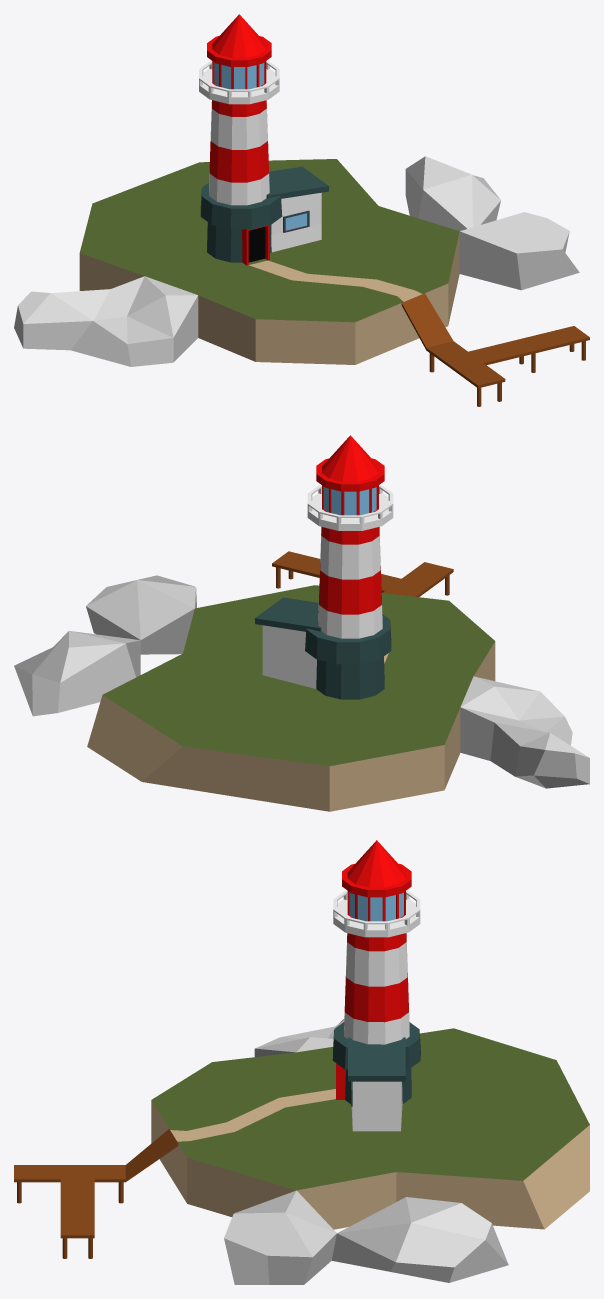
Rendered from LighthouseIsland.fbx.
3 views of the same model, one above another, from view 1: azimuth 30°, elevation 25°; view 2: azimuth 150°, elevation 25°; view 3: azimuth 270°, elevation 25° (orthographic). The views are drawn at different scales.
Visible parts, largest first — view 1: Cube; view 2: Cube; view 3: Cube.
Boxes of the visible parts, left/top/right/bottom form: Cube: left=14, top=14, right=589, bottom=406; Cube: left=14, top=435, right=589, bottom=811; Cube: left=14, top=840, right=589, bottom=1284.
Bounding box in the file's own units: 3886 × 2142 × 3581.
